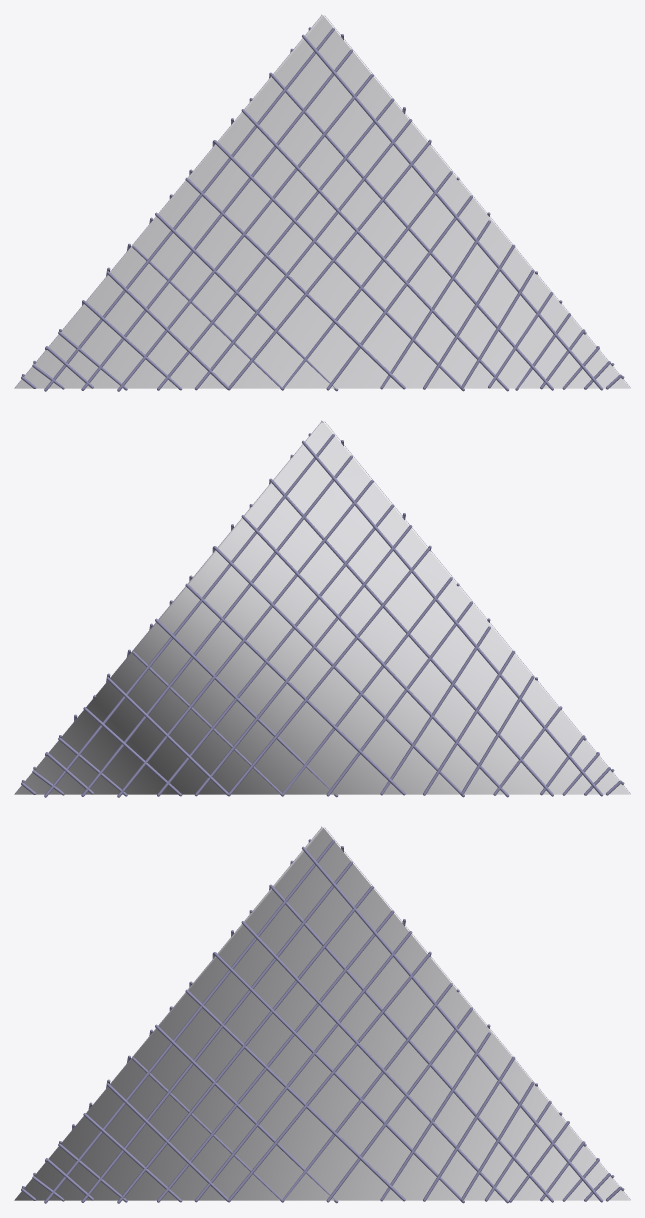
Rendered from louvre.fbx.
3 views of the same model, one above another, from view 1: azimuth 30°, elevation 25°; view 2: azimuth 150°, elevation 25°; view 3: azimuth 270°, elevation 25° (orthographic).
Parts seen in each view (by area): view 1: louvrenew; view 2: louvrenew; view 3: louvrenew.
Part boxes in pixels (box(x1,y1,x2,y2)): louvrenew: box(14, 14, 630, 391); louvrenew: box(14, 420, 630, 797); louvrenew: box(14, 826, 630, 1203).
Bounding box in the file's own units: 185 × 115 × 213.
